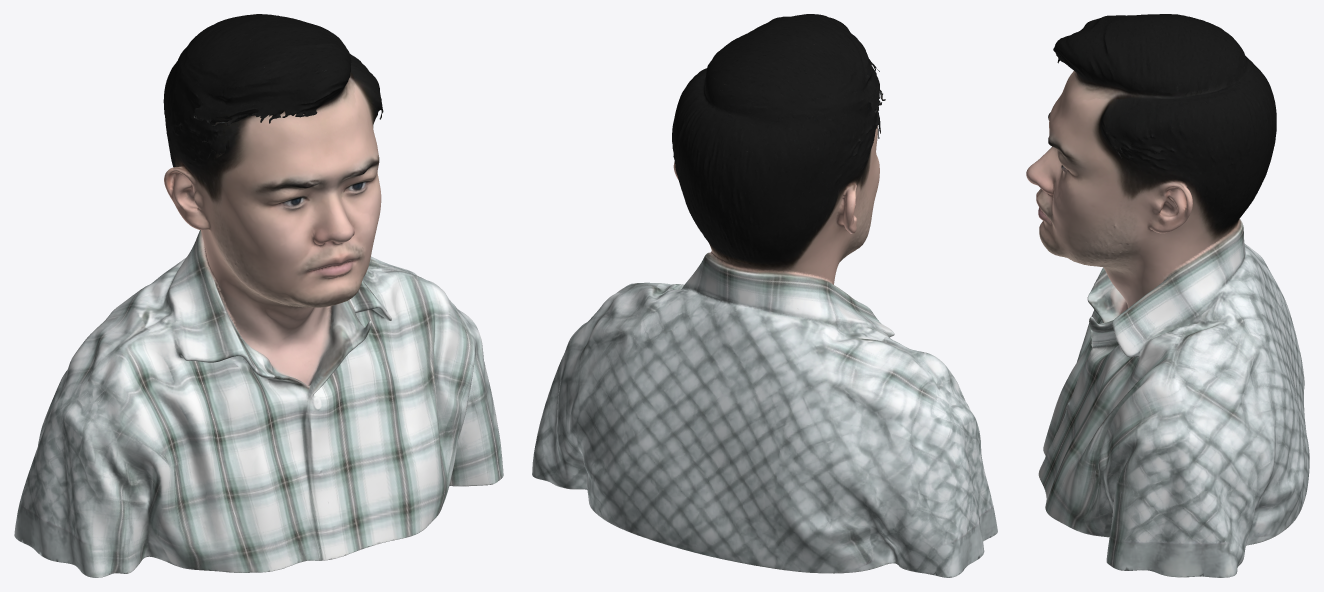
3 renders of one model, left to right at view 1: azimuth 30°, elevation 25°; view 2: azimuth 150°, elevation 25°; view 3: azimuth 270°, elevation 25°, orthographic. The views are drawn at different scales.
Parts seen in each view (by area): view 1: mesh_node; view 2: mesh_node; view 3: mesh_node.
Boxes of the visible parts, x1=… form: mesh_node: x1=14, y1=14, x2=503, y2=577; mesh_node: x1=532, y1=14, x2=997, y2=577; mesh_node: x1=1026, y1=14, x2=1309, y2=577.
Size of the model in its own units: 1.83 by 1.9 by 1.08.
1 material, 1 textured.
